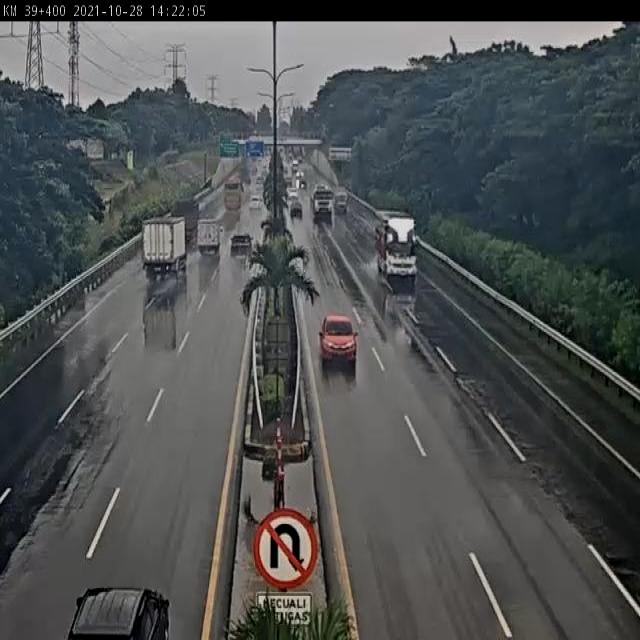Bus: (222, 176, 244, 214)
Car: (66, 585, 171, 640), (318, 313, 362, 366), (228, 233, 254, 259)
Truck: (372, 206, 418, 283), (139, 216, 187, 278), (193, 215, 223, 258), (172, 198, 200, 242), (310, 180, 336, 218)
